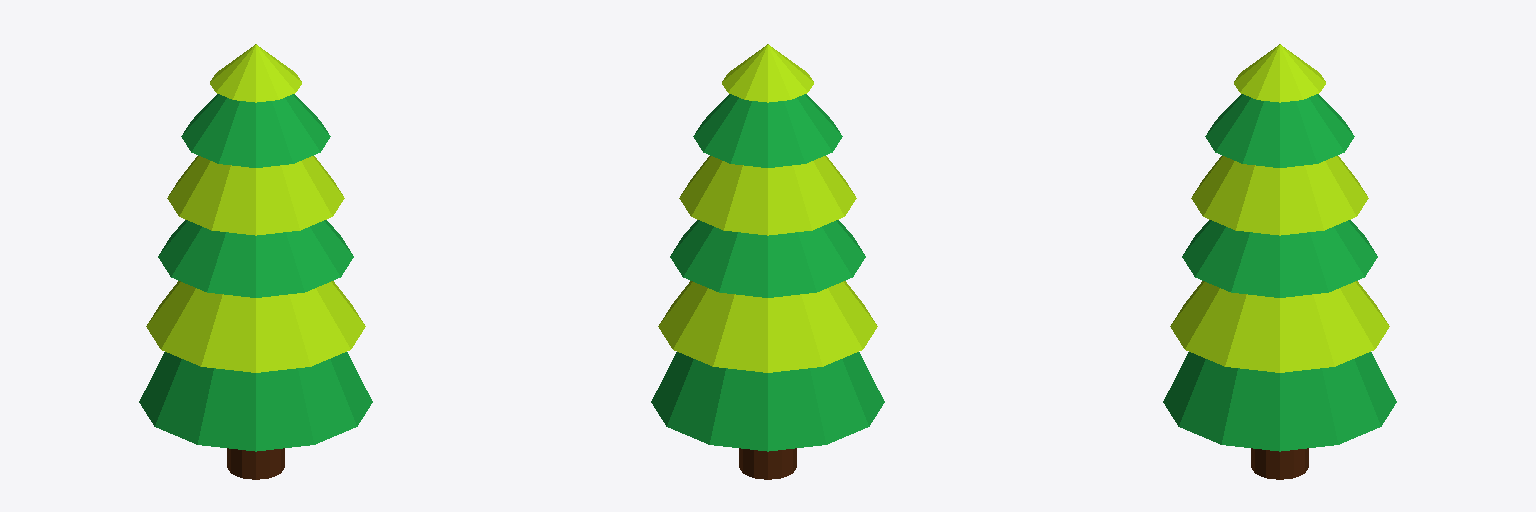
3 renders of one model, left to right at view 1: azimuth 30°, elevation 25°; view 2: azimuth 150°, elevation 25°; view 3: azimuth 270°, elevation 25°, orthographic.
Visible parts, largest first — view 1: Cylinder; view 2: Cylinder; view 3: Cylinder.
Part boxes in pixels (x1,y1,x2,y2): Cylinder: (139, 44, 372, 479); Cylinder: (651, 44, 884, 479); Cylinder: (1163, 44, 1396, 479).
Size of the model in its own units: 100 by 200 by 100.
Materials: 1 (1 with a texture image).